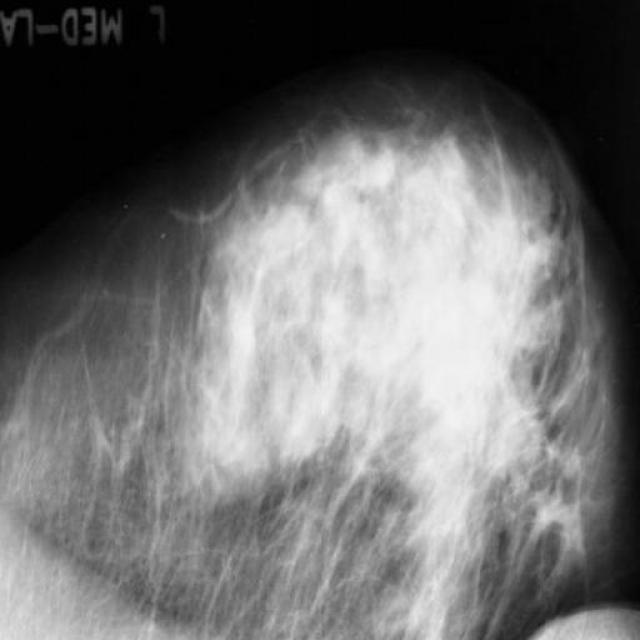cancer: (447, 276, 492, 356)
